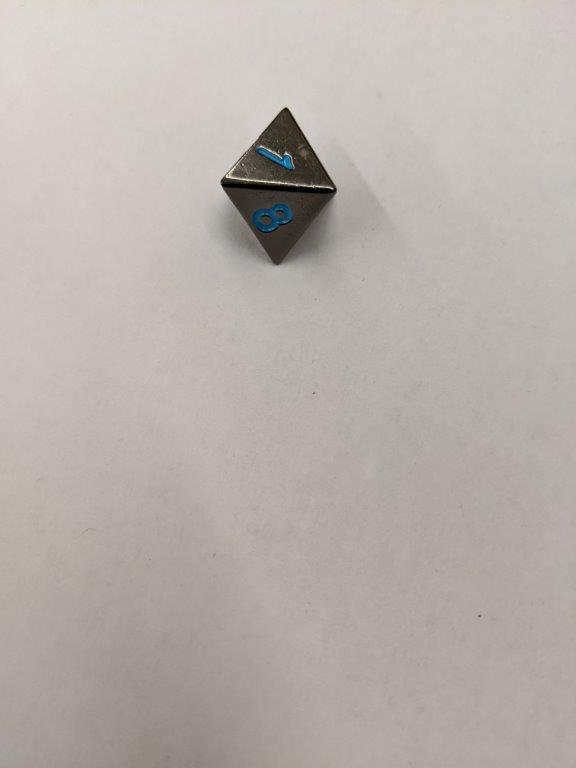d8-1: (218, 105, 339, 265)
